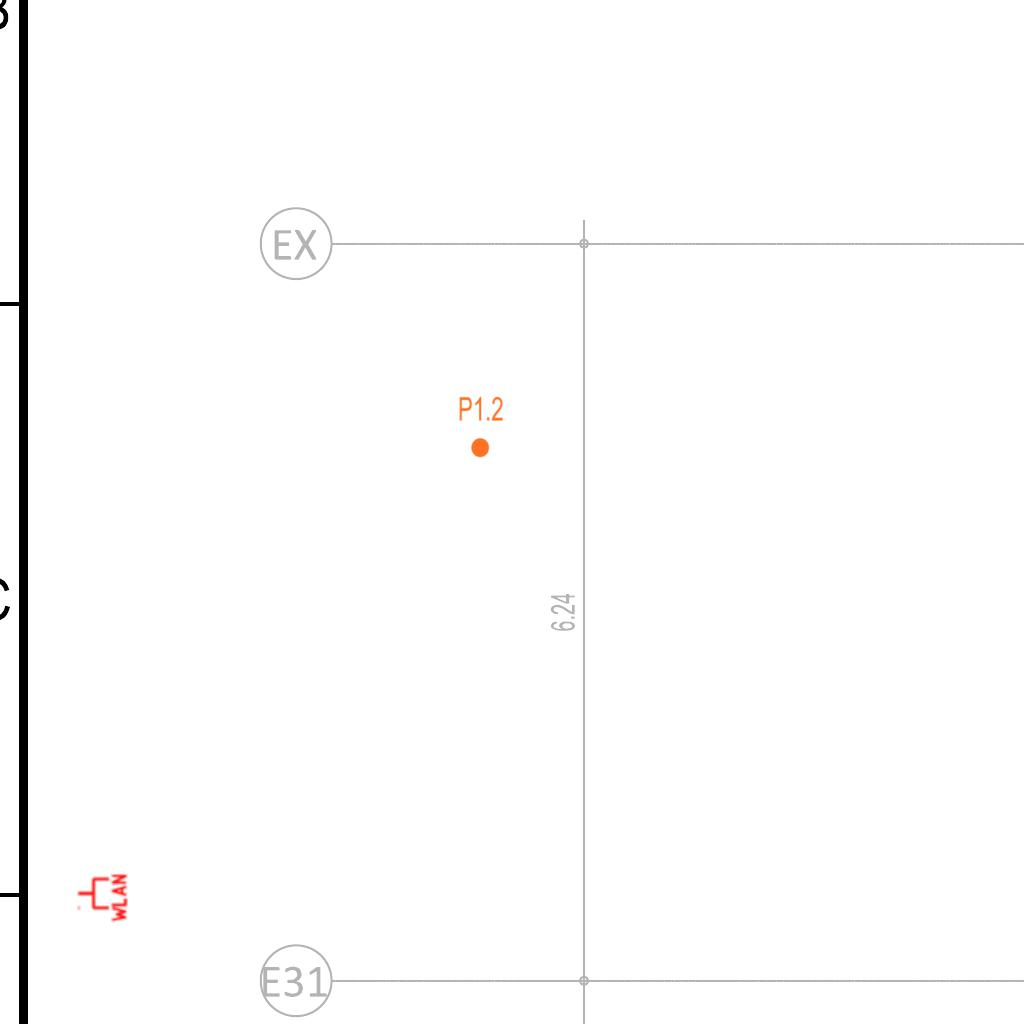Downlight_LED_Einbauleuchten_Flur: (458, 395, 504, 459)
WLAN: (76, 872, 128, 924)
